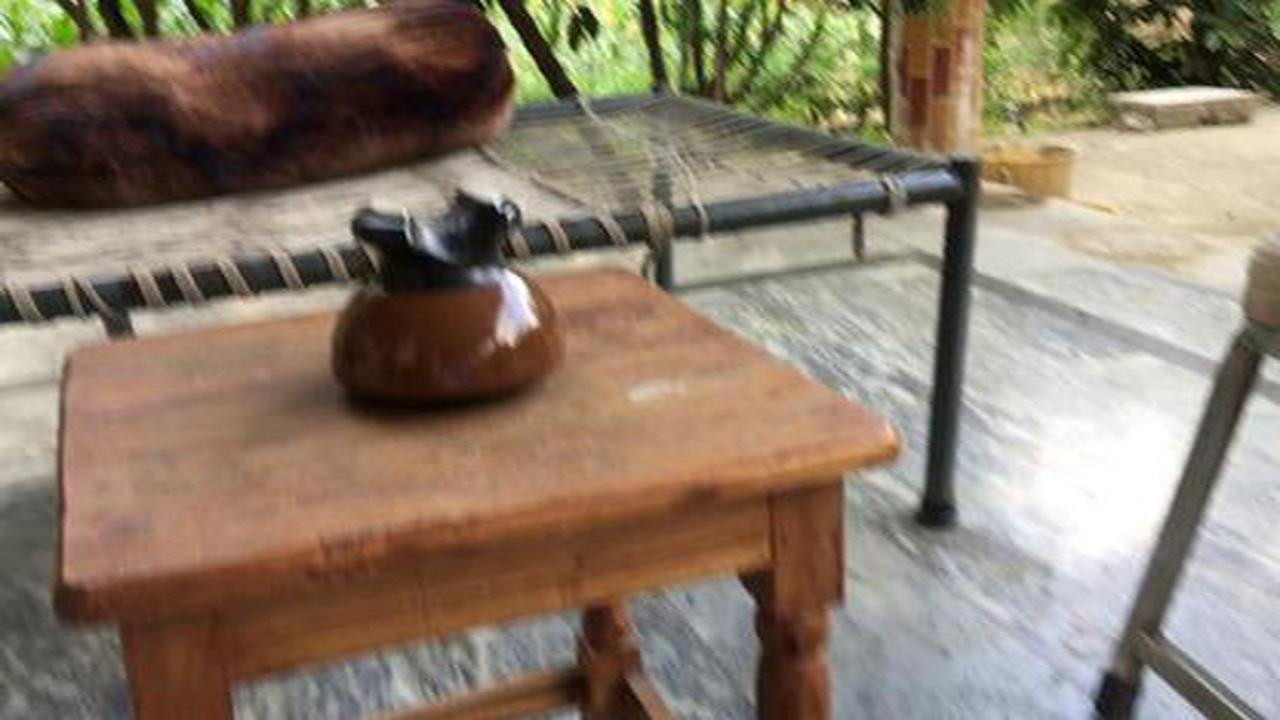insulator_pin: (317, 177, 579, 425)
